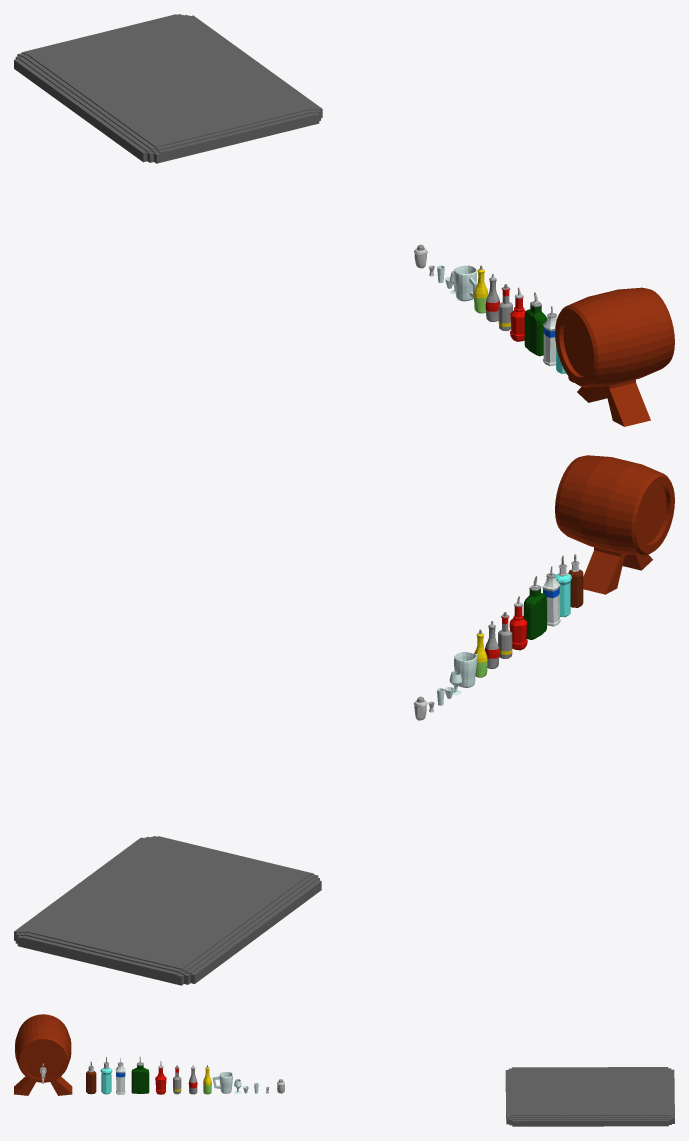
Rendered from objectes_texturitzats.fbx.
3 views of the same model, one above another, from view 1: azimuth 30°, elevation 25°; view 2: azimuth 150°, elevation 25°; view 3: azimuth 270°, elevation 25° (orthographic). The views are drawn at different scales.
Parts seen in each view (by area): view 1: ALFOMBRILLA, Cylinder, jagger, vasocerveza, gyn, tequila; view 2: ALFOMBRILLA, Cylinder, jagger; view 3: ALFOMBRILLA, Cylinder, jagger, ron, gyn, vodka, vasocerveza, tequila, cava.001, vino, cava.
Part boxes in pixels (box(x1,y1,x2,y2)): ALFOMBRILLA: box(14, 14, 322, 163); Cylinder: box(555, 287, 674, 426); jagger: box(524, 292, 546, 356); vasocerveza: box(454, 265, 476, 301); gyn: box(543, 306, 556, 366); tequila: box(510, 287, 525, 341); ALFOMBRILLA: box(14, 836, 321, 985); Cylinder: box(555, 455, 674, 594); jagger: box(523, 576, 546, 639); ALFOMBRILLA: box(505, 1067, 674, 1126); Cylinder: box(14, 1014, 72, 1095); jagger: box(131, 1056, 149, 1093); ron: box(100, 1057, 112, 1094); gyn: box(115, 1058, 125, 1094); vodka: box(86, 1061, 96, 1094); vasocerveza: box(219, 1072, 232, 1093); tequila: box(155, 1061, 166, 1094); cava.001: box(203, 1065, 211, 1094); vino: box(173, 1065, 181, 1094); cava: box(188, 1065, 197, 1094).
Bounding box in the file's own units: 263 × 173 × 1357.
